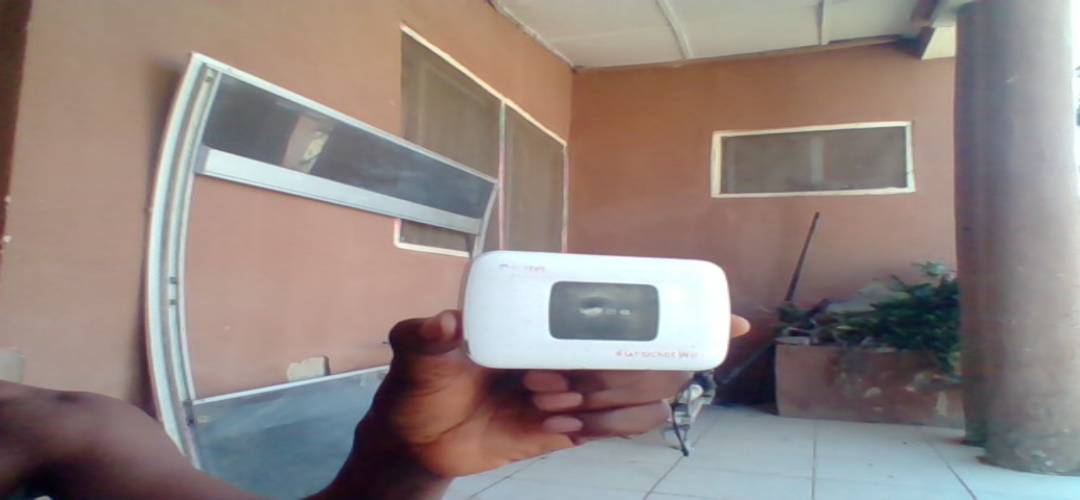mifi: (459, 251, 730, 374)
